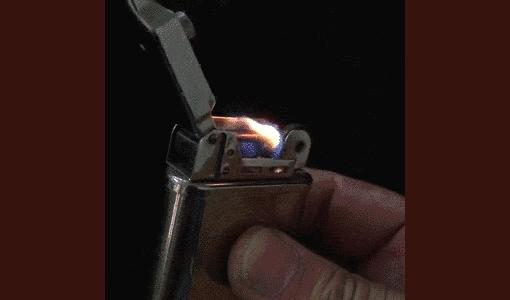fire: (228, 105, 289, 174)
